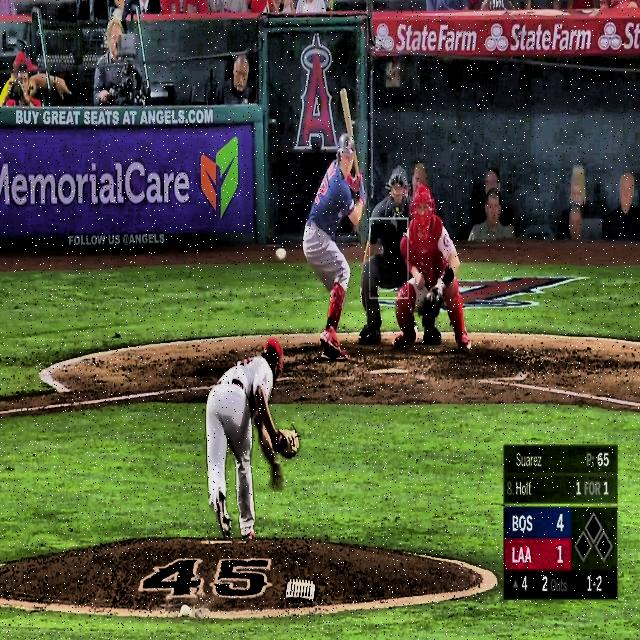baseball: (276, 248, 286, 261)
